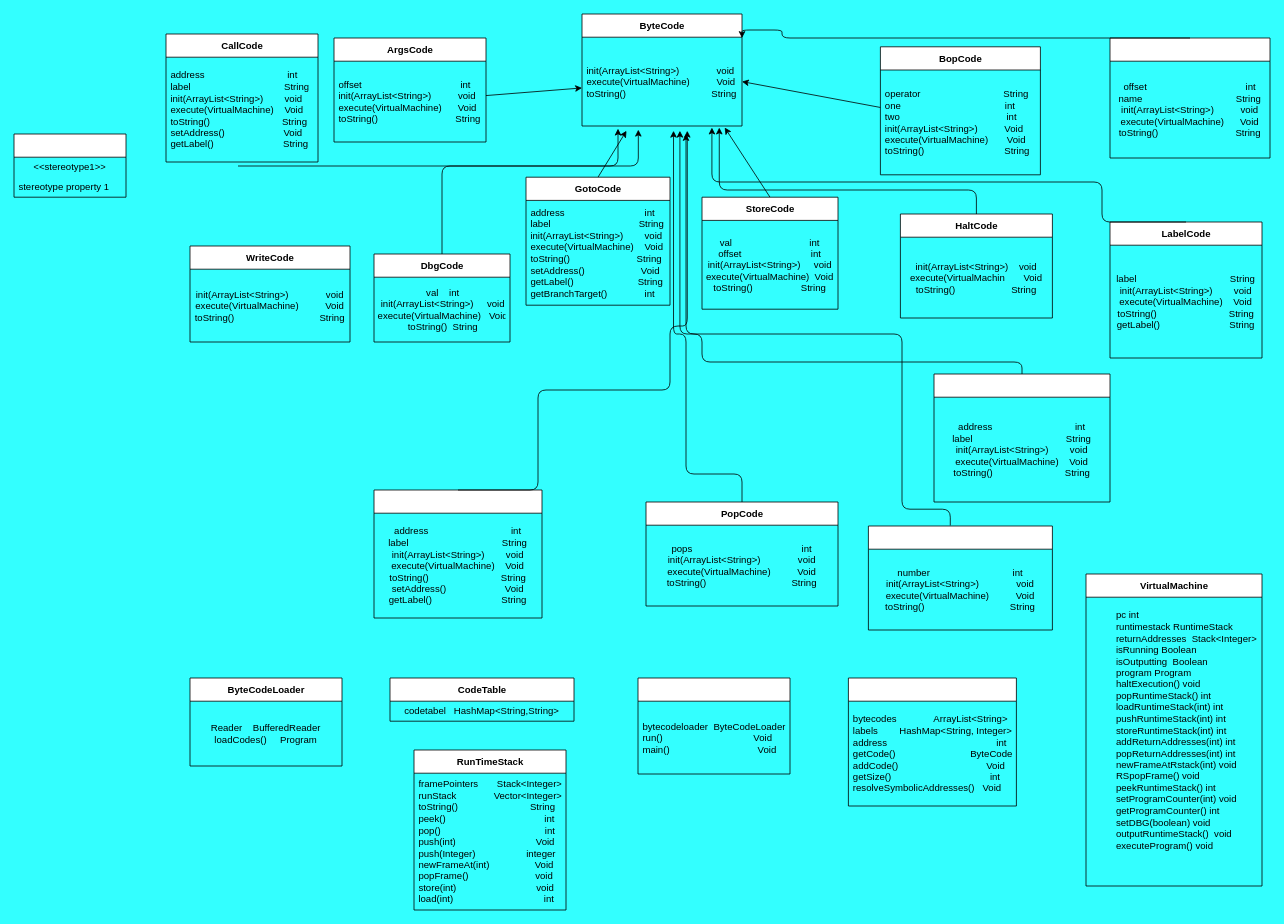
Image size: 1284x924. Some labels were removed from this diagram. Here are the shapes that lost their labels. From the top down, the box of each, then its label:
(1109, 37, 1270, 158): LoadCode
(13, 133, 126, 197): Class1
(933, 373, 1110, 502): ReturnCode
(373, 489, 542, 618): FalsebranchCode
(868, 525, 1052, 630): ReadCode
(637, 677, 790, 774): Interpreter
(848, 677, 1016, 806): Program
